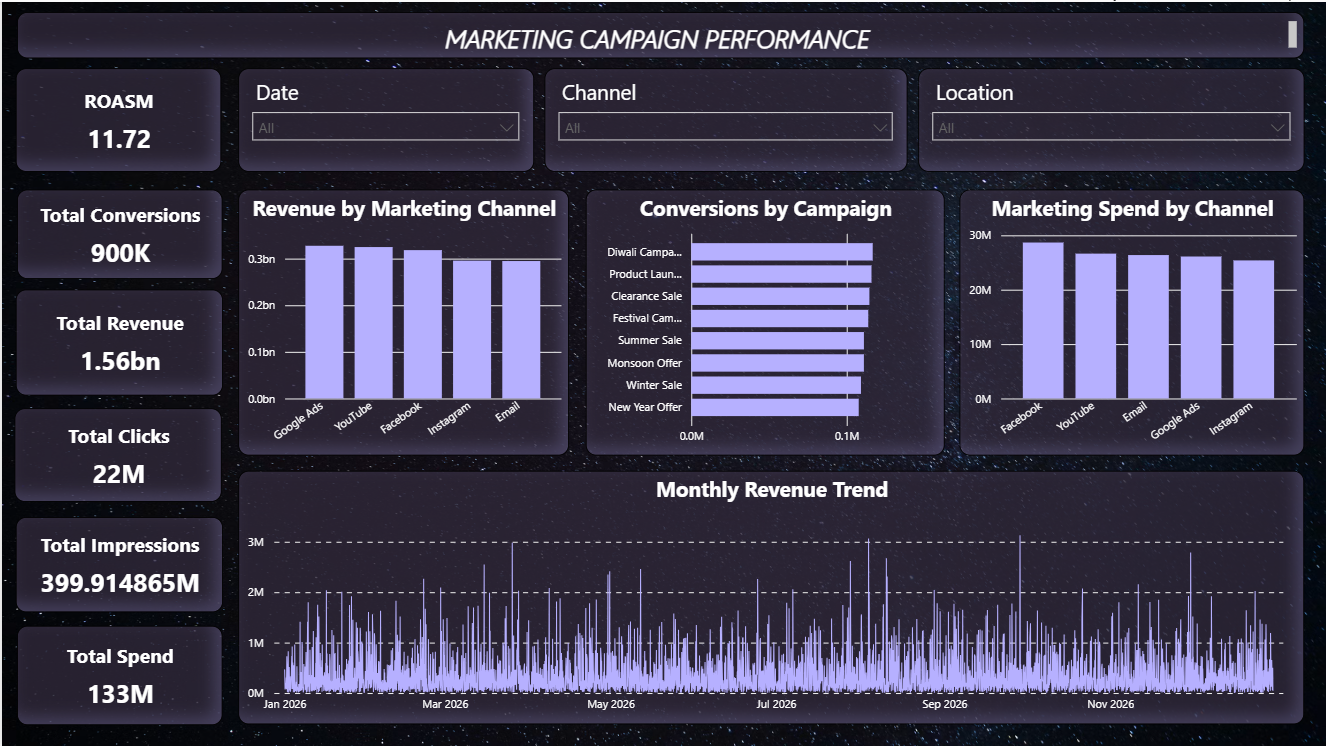

What the dashboard file says about the page in this screenshot:
{"tool":"powerbi","page":{"name":"Page 1","canvas":[1280,720],"ordinal":0},"visuals":[{"type":"textbox","box":[14.9,9.5,1242.4,44.6],"z":0},{"type":"slicer","fields":{"Values":["MarketingData.Date"]},"box":[228.5,63.5,285.3,100],"z":1000},{"type":"slicer","fields":{"Values":["MarketingData.Channel"]},"box":[523.2,63.5,350.1,100],"z":2000},{"type":"slicer","fields":{"Values":["MarketingData.Location"]},"box":[884.2,63.5,373.1,100],"z":3000},{"type":"cardVisual","fields":{"Data":["MarketingData.Total Spend"]},"box":[14.9,601.6,198.7,96],"z":4000},{"type":"cardVisual","fields":{"Data":["MarketingData.Total Impressions"]},"box":[13.5,497.5,200.1,91.9],"z":5000},{"type":"cardVisual","fields":{"Data":["MarketingData.Total Clicks"]},"box":[12.2,392.1,200.1,90.6],"z":6000},{"type":"cardVisual","fields":{"Data":["MarketingData.Total Conversions"]},"box":[14.9,181.2,198.7,86.5],"z":7000},{"type":"cardVisual","fields":{"Data":["MarketingData.Total Revenue"]},"box":[13.5,277.1,200.1,102.7],"z":8000},{"type":"cardVisual","fields":{"Data":["MarketingData.ROASM"]},"box":[13.5,63.5,198.7,100],"z":9000},{"type":"clusteredColumnChart","title":"Revenue by Marketing Channel","fields":{"Category":["MarketingData.Channel"],"Y":["MarketingData.Total Revenue"]},"box":[228.5,181.2,319.1,256.9],"z":10000},{"type":"lineChart","title":"Monthly Revenue Trend","fields":{"Category":["MarketingData.Date"],"Y":["MarketingData.Total Revenue"]},"box":[228.5,452.9,1028.8,244.7],"z":11000},{"type":"clusteredColumnChart","title":"Marketing Spend by Channel","fields":{"Category":["MarketingData.Channel"],"Y":["MarketingData.Total Spend"]},"box":[924.7,181.2,332.6,256.9],"z":12000},{"type":"barChart","title":"Conversions by Campaign","fields":{"Category":["MarketingData.Campaign"],"Y":["MarketingData.Total Conversions"]},"box":[563.8,181.2,346.1,256.9],"z":13000}]}

Visuals, with their boxes in screenshot pixels (x1, y1, x2, y2), scaled from the page's 1280x720 canvas onto the 1326x746 screenshot:
textbox: bbox(15, 10, 1302, 56)
slicer - MarketingData.Date: bbox(237, 66, 532, 169)
slicer - MarketingData.Channel: bbox(542, 66, 905, 169)
slicer - MarketingData.Location: bbox(916, 66, 1302, 169)
cardVisual - MarketingData.Total Spend: bbox(15, 623, 221, 723)
cardVisual - MarketingData.Total Impressions: bbox(14, 515, 221, 611)
cardVisual - MarketingData.Total Clicks: bbox(13, 406, 220, 500)
cardVisual - MarketingData.Total Conversions: bbox(15, 188, 221, 277)
cardVisual - MarketingData.Total Revenue: bbox(14, 287, 221, 394)
cardVisual - MarketingData.ROASM: bbox(14, 66, 220, 169)
"Revenue by Marketing Channel" clusteredColumnChart: bbox(237, 188, 567, 454)
"Monthly Revenue Trend" lineChart: bbox(237, 469, 1302, 723)
"Marketing Spend by Channel" clusteredColumnChart: bbox(958, 188, 1302, 454)
"Conversions by Campaign" barChart: bbox(584, 188, 943, 454)
